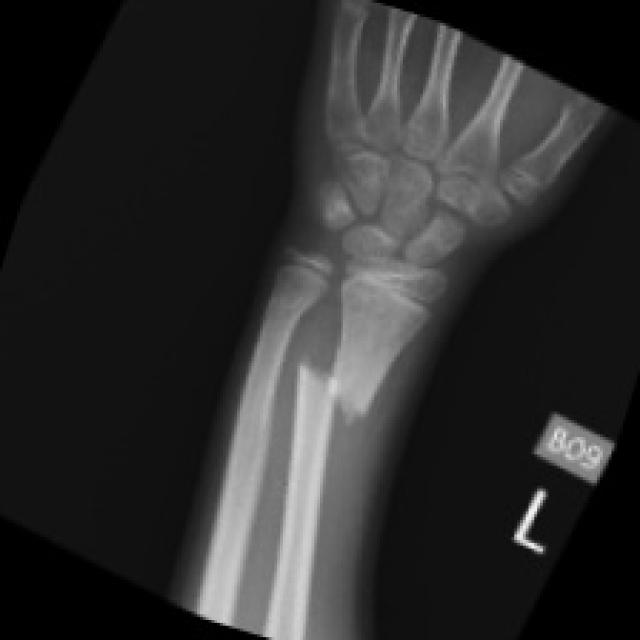fracture: (280, 345, 410, 449)
